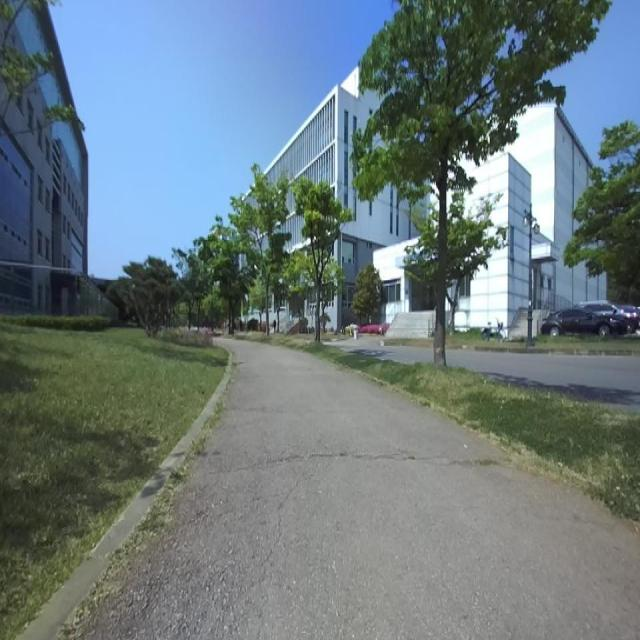sidewalk: (62, 336, 640, 640)
